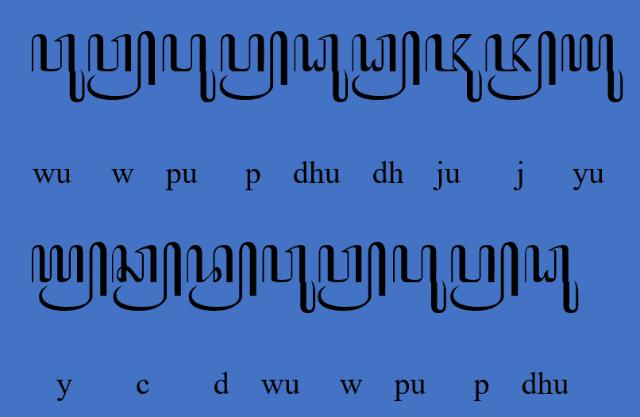-c: (110, 240, 183, 314)
-d: (186, 241, 258, 312)
-dh: (351, 30, 422, 102)
-j: (486, 30, 556, 100)
-p: (449, 241, 519, 313), (220, 30, 288, 102)
-w: (87, 30, 157, 102), (316, 241, 386, 313)
-y: (30, 241, 108, 313)
dhu: (292, 33, 350, 104), (524, 244, 580, 314)
ju: (426, 32, 484, 104)
pu: (162, 33, 216, 104), (392, 243, 446, 314)
wu: (30, 33, 86, 104), (262, 243, 316, 314)
yu: (561, 34, 625, 104)
